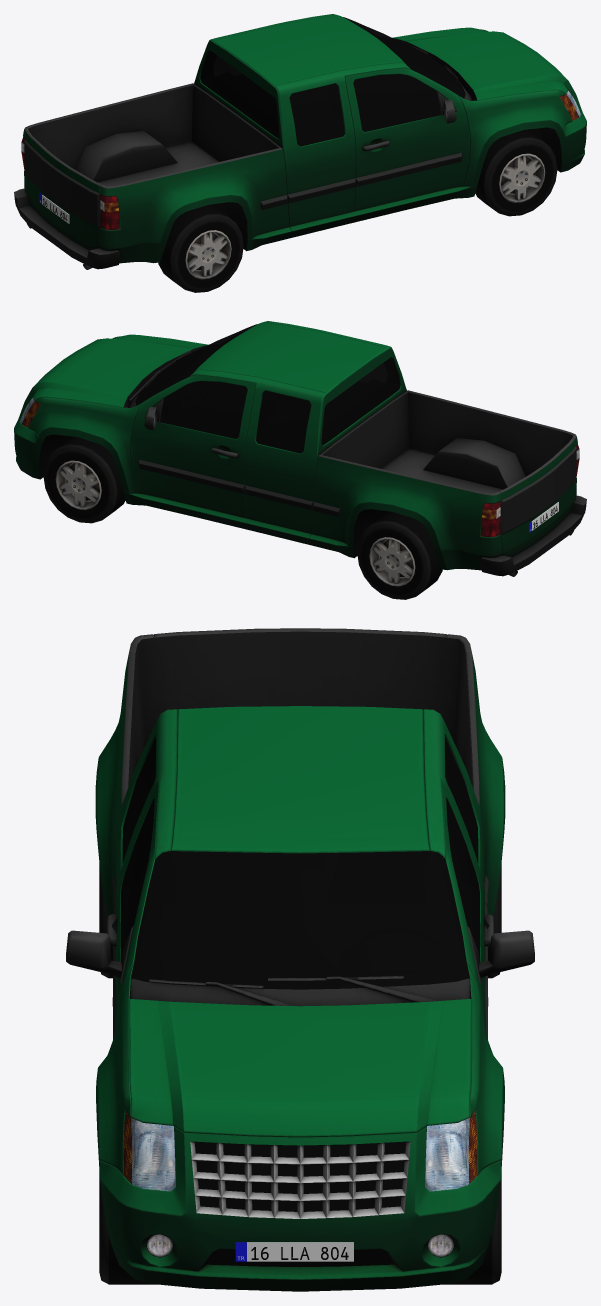
File: CarPlated8768.dae
The picture shows the model from 3 angles, top to bottom: view 1: azimuth 30°, elevation 25°; view 2: azimuth 150°, elevation 25°; view 3: azimuth 270°, elevation 25°; orthographic projection. The views are drawn at different scales.
Visible parts, largest first — view 1: CarPlated8768; view 2: CarPlated8768; view 3: CarPlated8768.
Boxes of the visible parts, x1,y1,x2,y2 form: CarPlated8768: [14, 14, 586, 292]; CarPlated8768: [14, 321, 586, 599]; CarPlated8768: [66, 628, 534, 1291].
Bounding box in the file's own units: 5.19 × 2.07 × 1.7.
